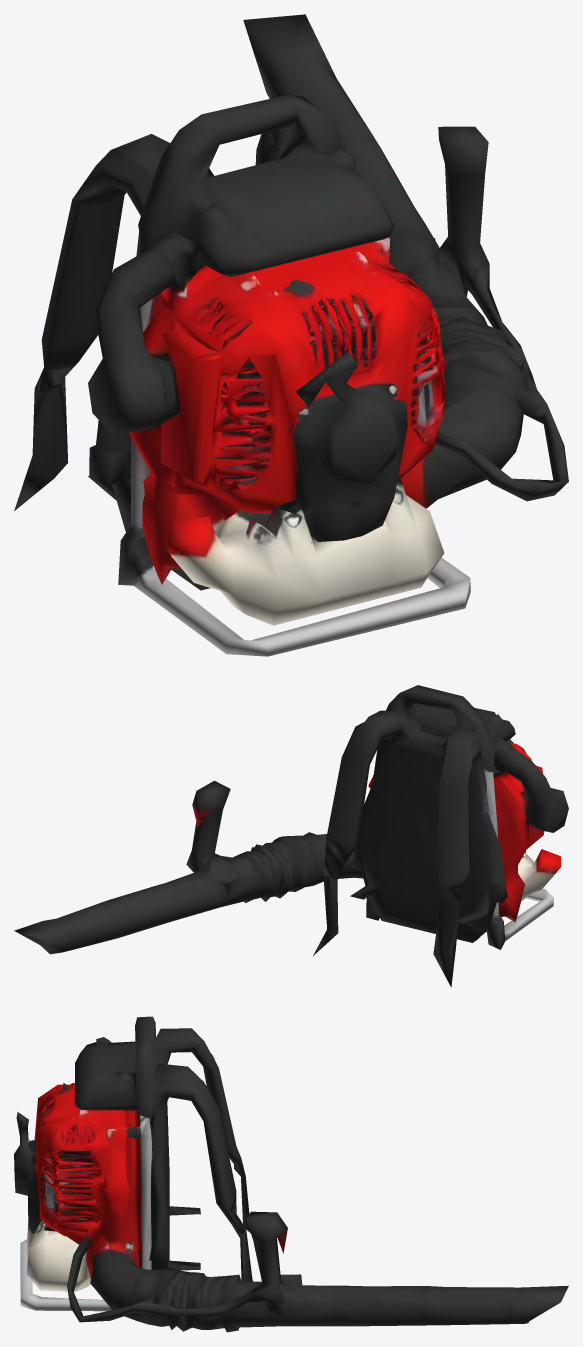
Rendered from ufleyici.glb.
3 renders of one model, top to bottom at view 1: azimuth 30°, elevation 25°; view 2: azimuth 150°, elevation 25°; view 3: azimuth 270°, elevation 25°, orthographic. The views are drawn at different scales.
Visible parts, largest first — view 1: tripo_node_4d03142b-4b8a-411f-a30c-f1556bdddd0a; view 2: tripo_node_4d03142b-4b8a-411f-a30c-f1556bdddd0a; view 3: tripo_node_4d03142b-4b8a-411f-a30c-f1556bdddd0a.
Boxes of the visible parts, x1,y1,x2,y2 form: tripo_node_4d03142b-4b8a-411f-a30c-f1556bdddd0a: (14, 14, 568, 656); tripo_node_4d03142b-4b8a-411f-a30c-f1556bdddd0a: (14, 685, 568, 986); tripo_node_4d03142b-4b8a-411f-a30c-f1556bdddd0a: (14, 1016, 568, 1332).
Size of the model in its own units: 0.7021 by 0.491 by 0.9786.
1 material, 1 textured.
